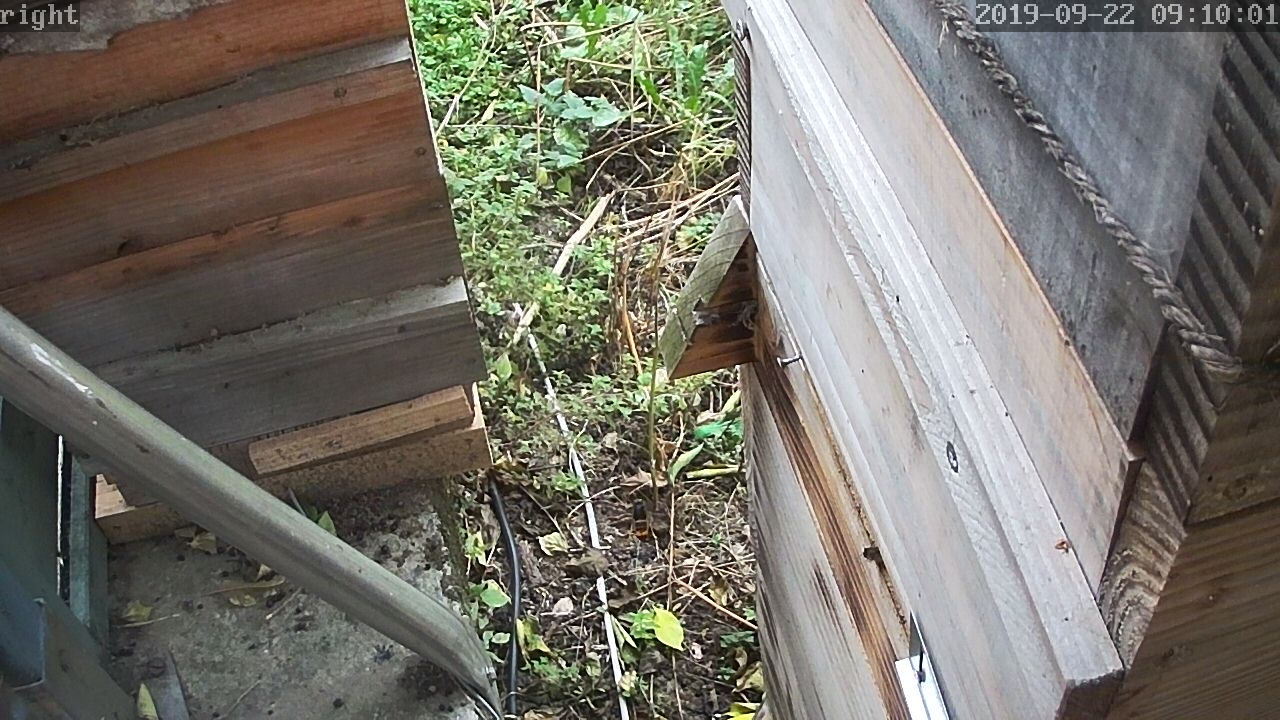bee: (854, 541, 890, 574)
hornet: (626, 492, 652, 546)
